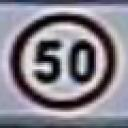speed_limit_50: (15, 8, 124, 112)
